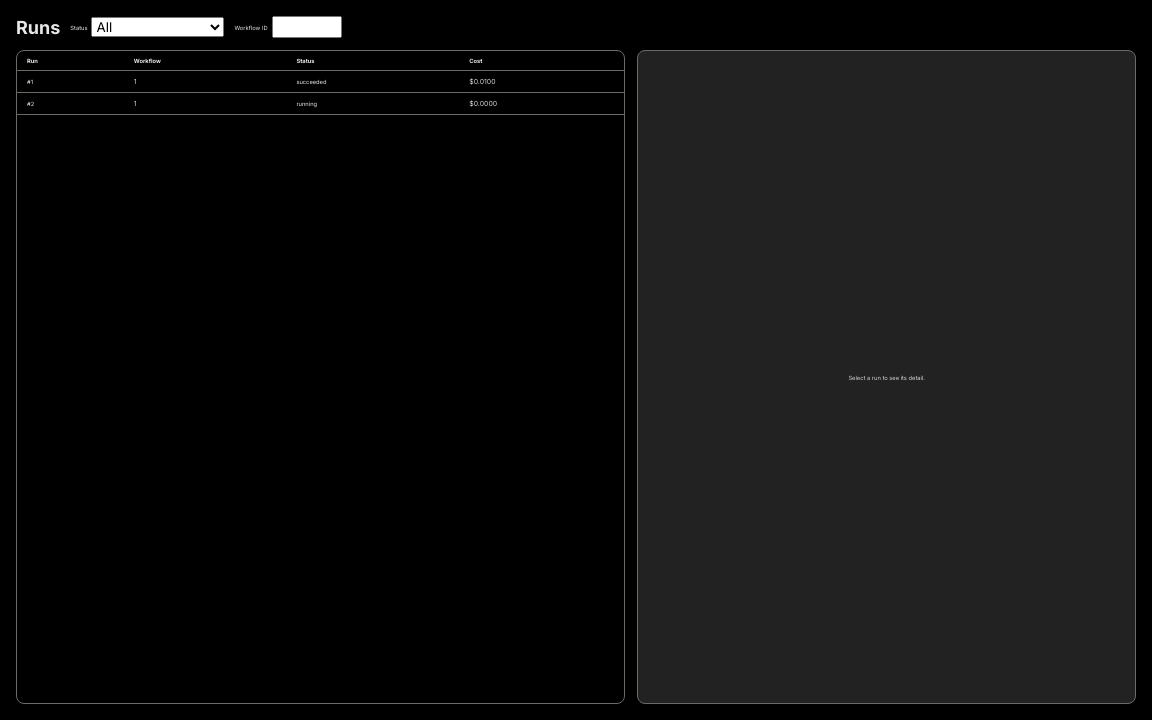
AgentRuns › clicking a run row selects it and loads run detail
Click the row with test id "run-row-1": {"x": 321, "y": 82} [17,70,624,92]
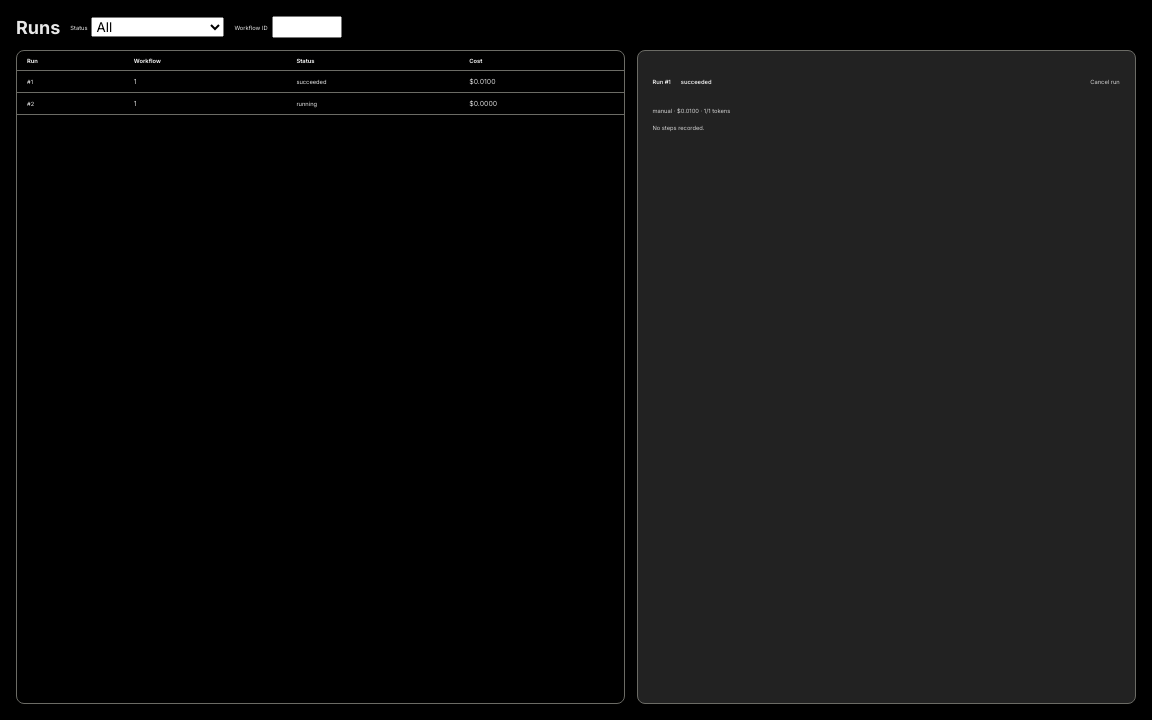
Result: the element with test id "run-detail" is shown at [637,50,1136,704]
Result: the text with test id "run-detail-status" reads "succeeded" at [681,78,712,84]
